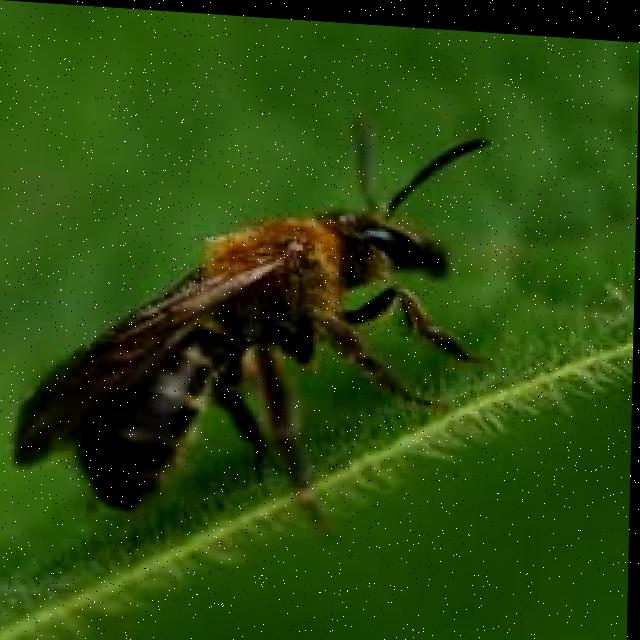Meliponula: (34, 68, 520, 537)
